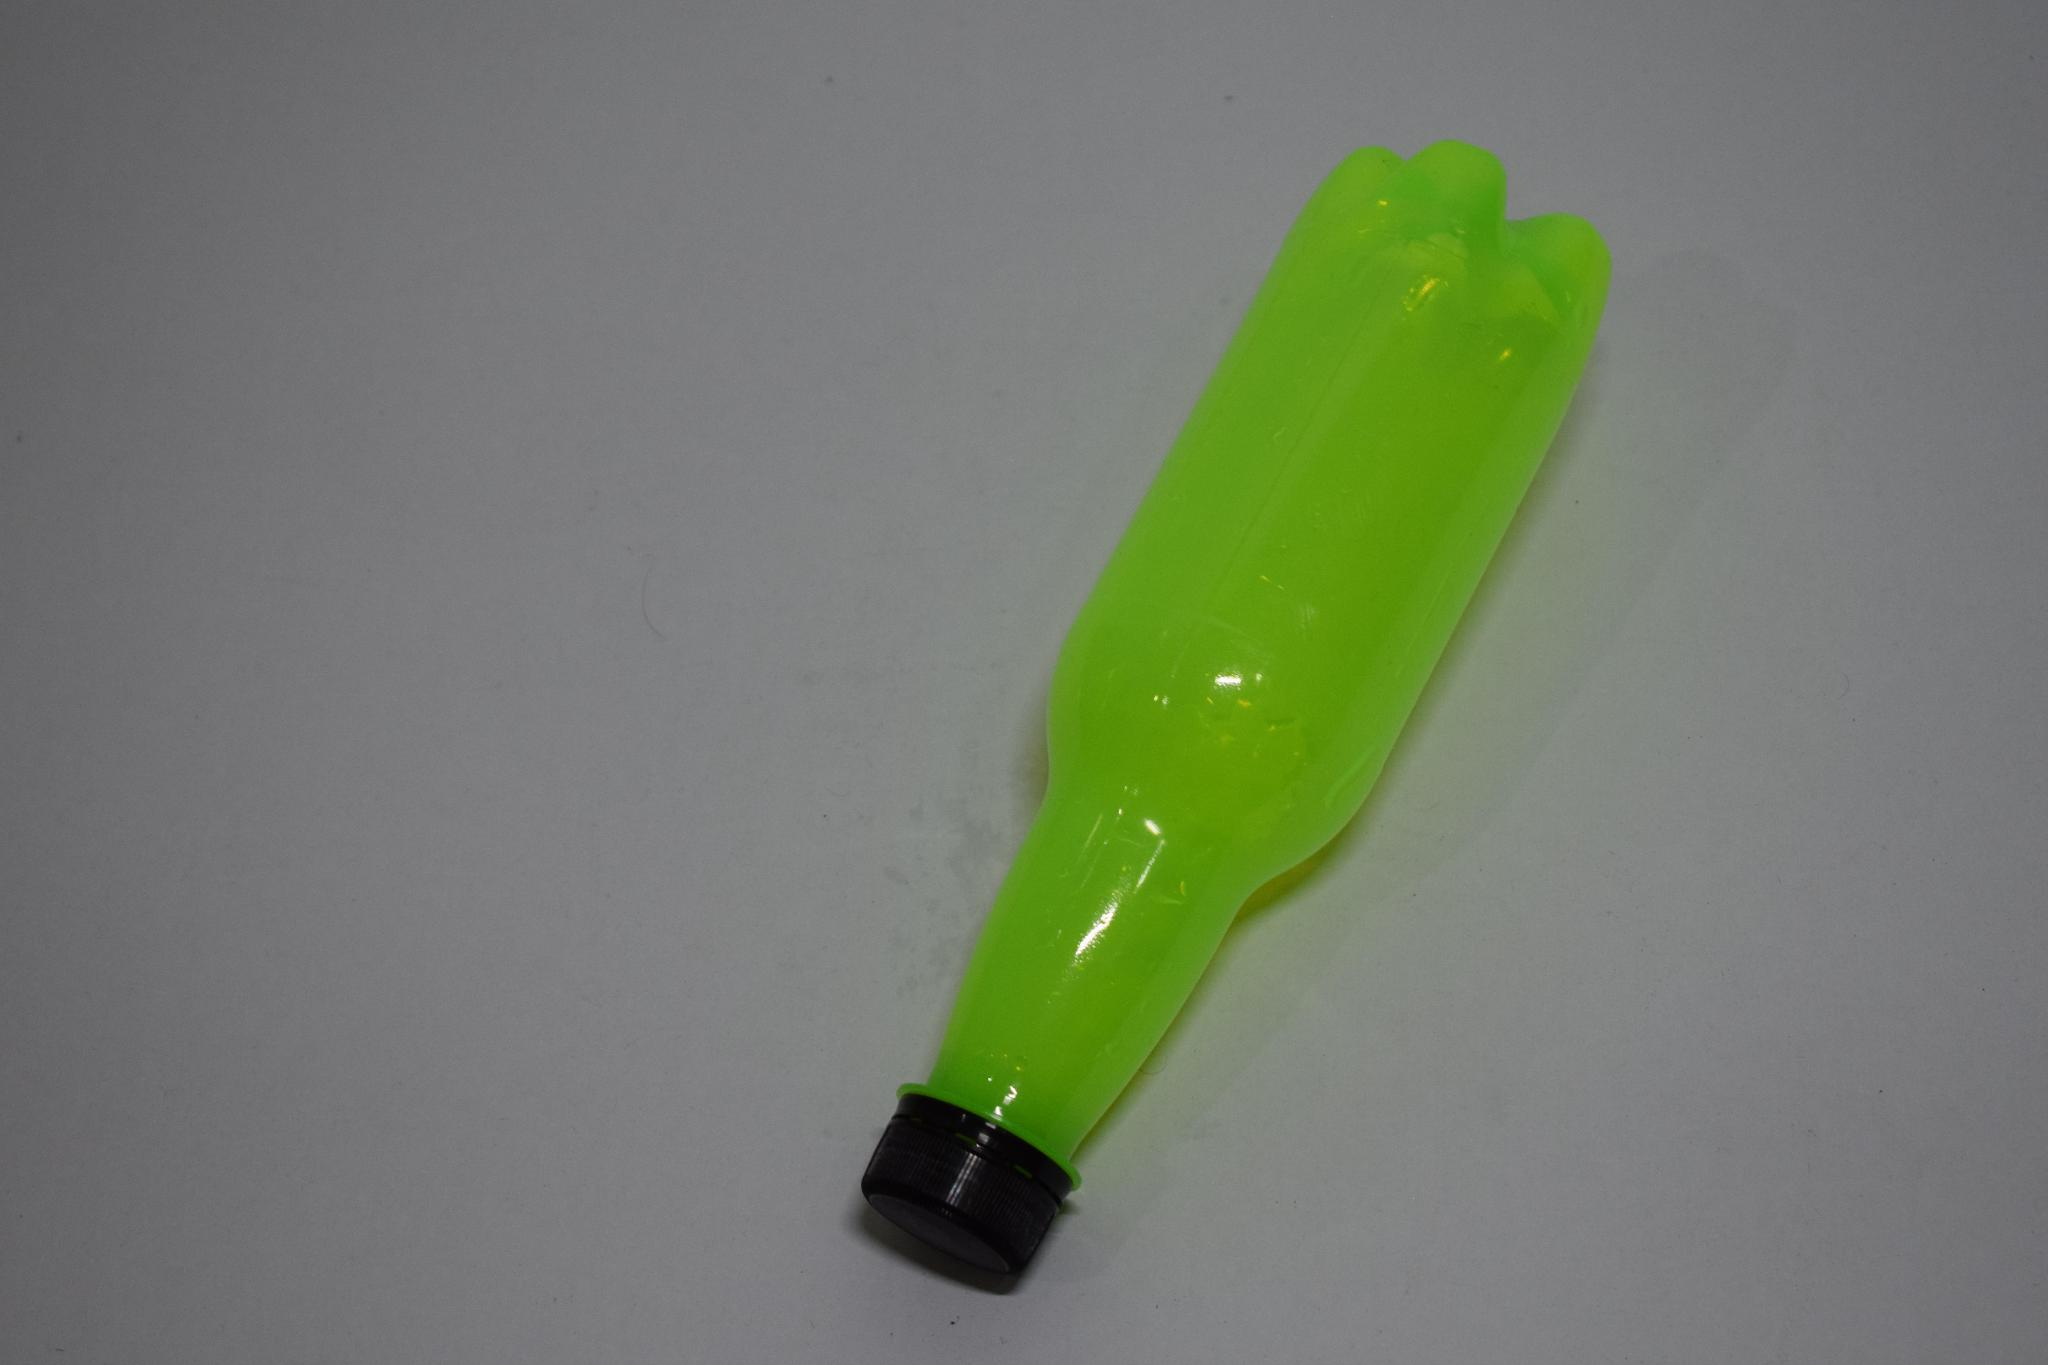bottle: (854, 132, 1612, 1298)
